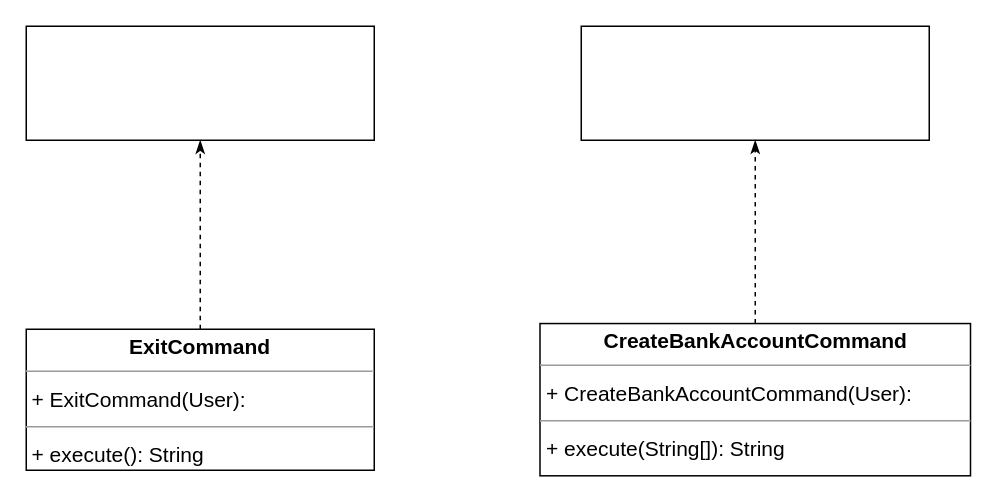
Image size: 998x503. Some labels were removed from this diagram. Here are the shapes that lost their labels. From the top down, the centre of each, then its label:
At (199,82): "<<interface>> SimpleCommand + execute(): String".
At (754,82): "<<interface>> ArgumentCommand + execute(String[]): String".
